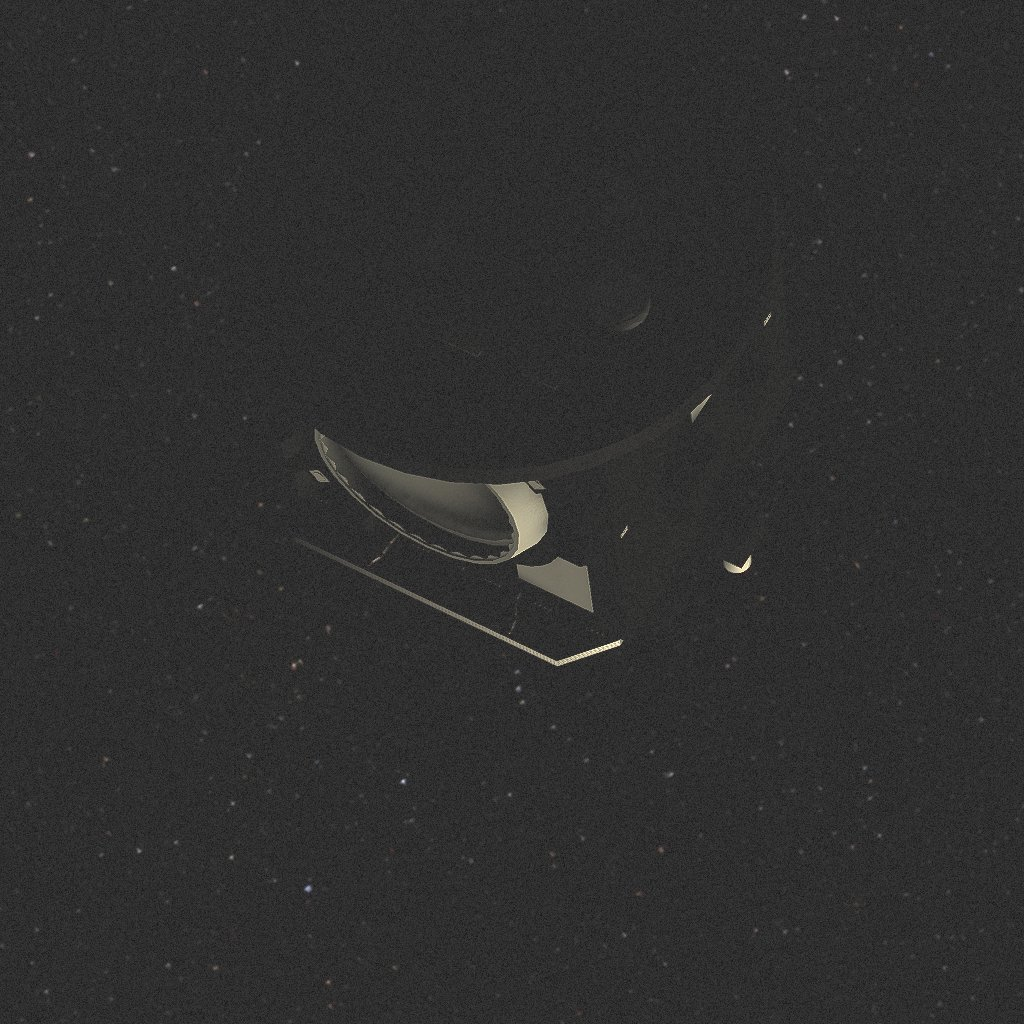proba_3_ocs: (228, 12, 792, 666)
